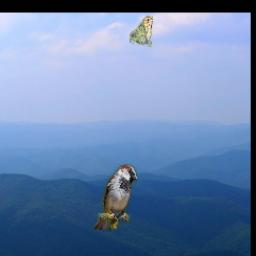Sparrow: (95, 165, 138, 231), (130, 16, 153, 47)
